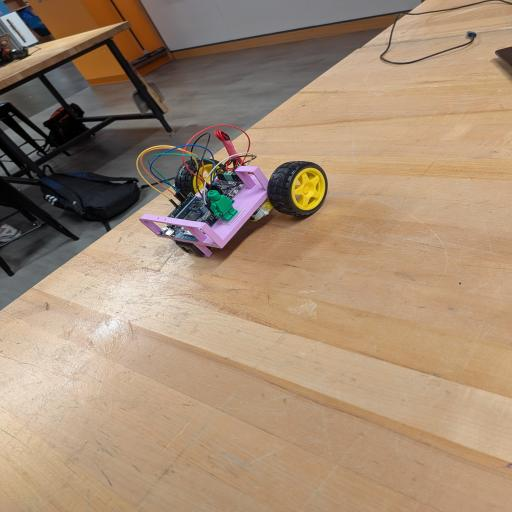Minifig: (208, 190, 237, 221)
